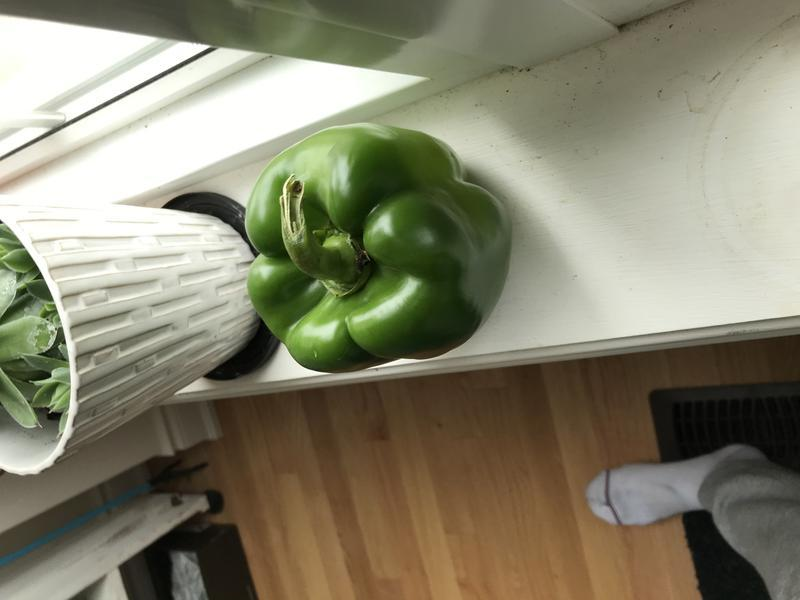green_pepper: (234, 113, 534, 383)
